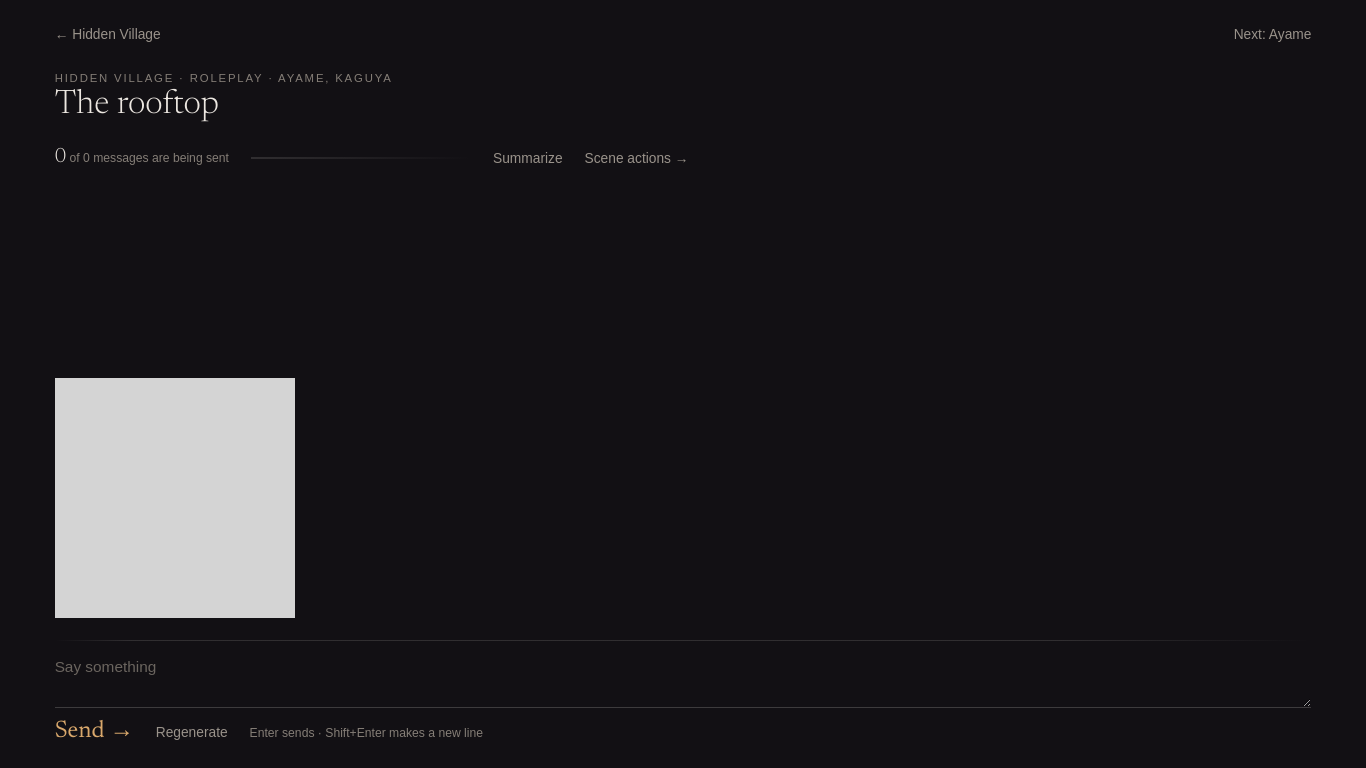
a multi-character scene › hides the rail on Escape
Click the button "Next: Ayame". click: point(1273, 35)
box: 1234,26 -> 1311,43
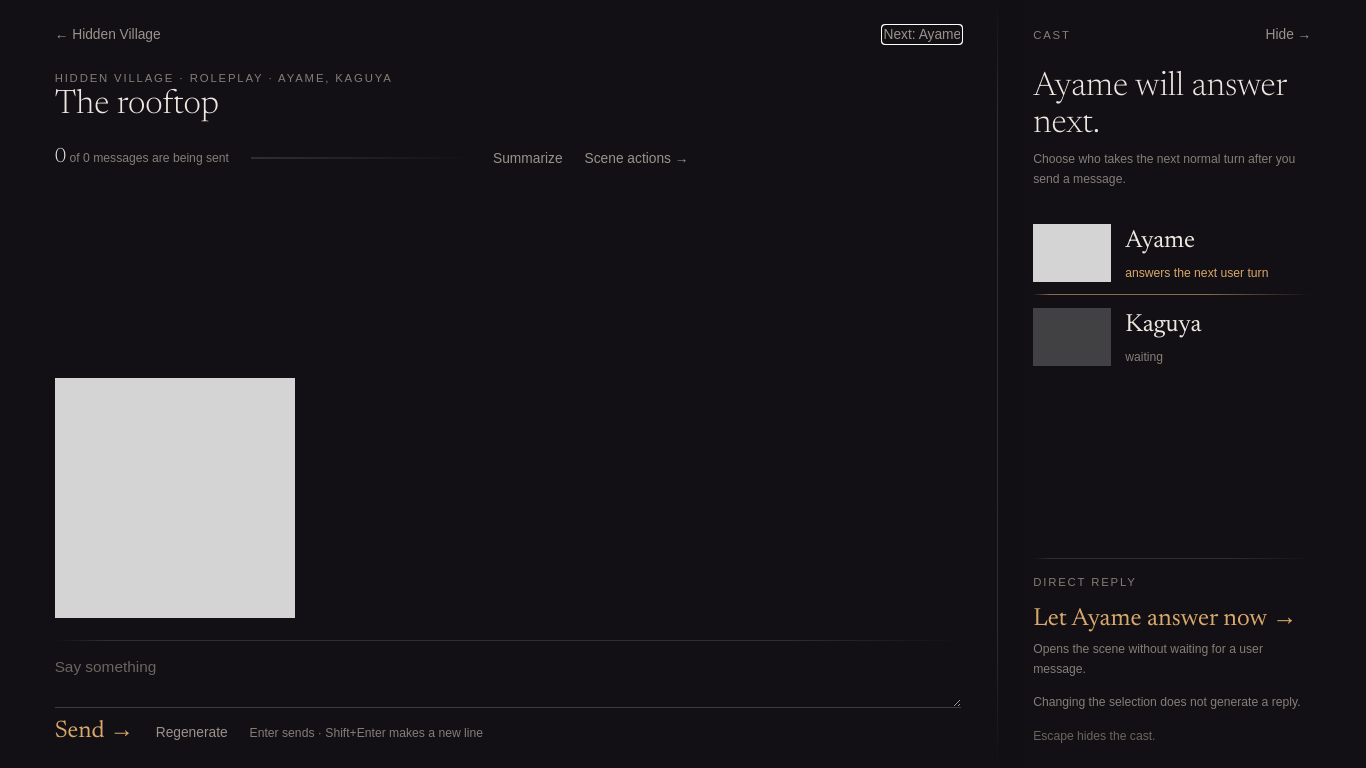
Expected: the heading "Ayame will answer next." is shown, 1033,69 -> 1311,142
Press Escape
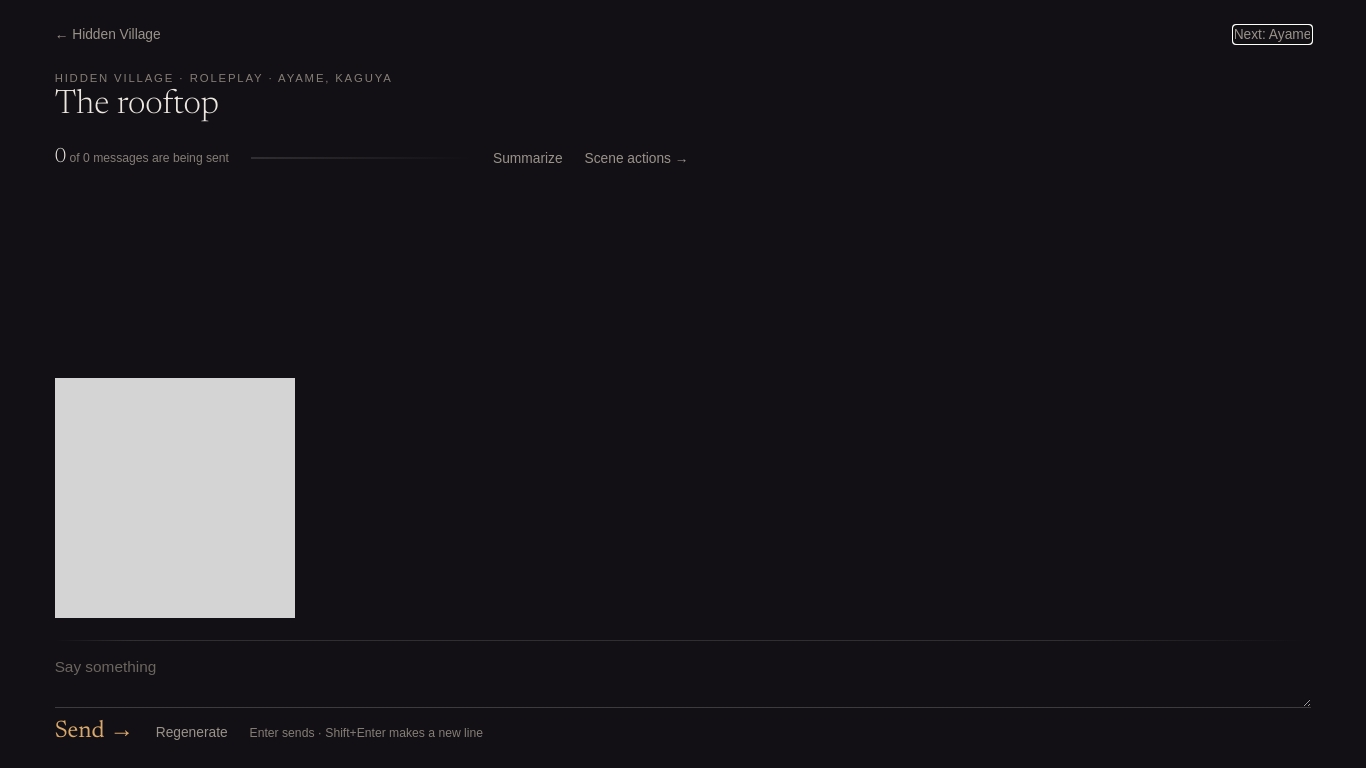
Expected: the heading "Ayame will answer next." is gone
